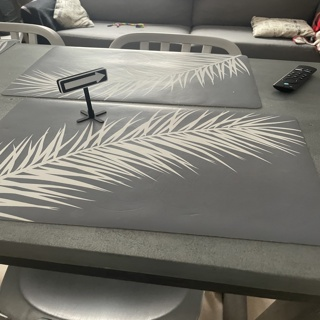sign_oneway_right: (59, 66, 110, 97)
